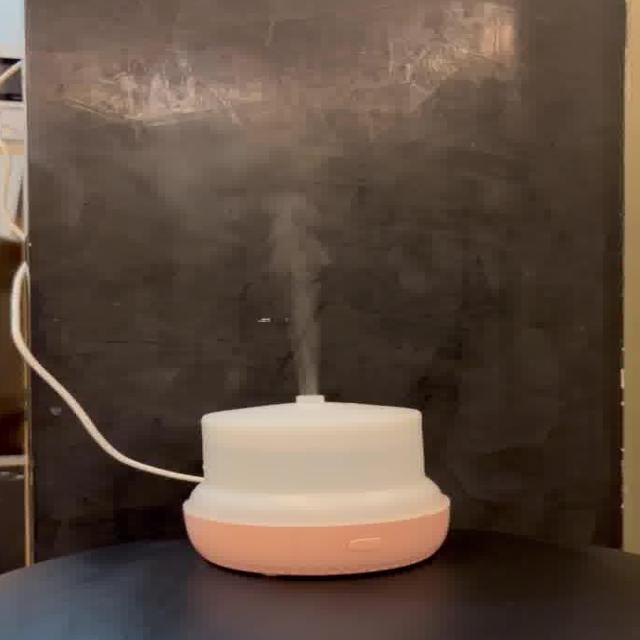fire: (182, 96, 339, 386)
